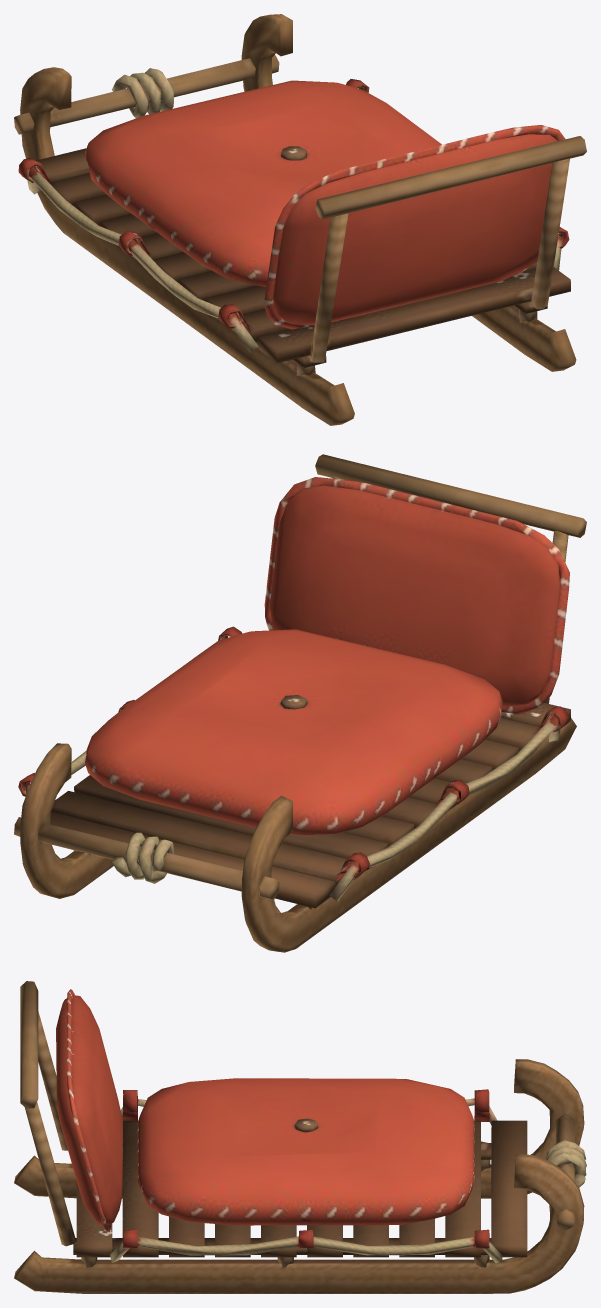
File: sled_small.glb
3 renders of one model, top to bottom at view 1: azimuth 30°, elevation 25°; view 2: azimuth 150°, elevation 25°; view 3: azimuth 270°, elevation 25°, orthographic. The views are drawn at different scales.
Parts seen in each view (by area): view 1: prop_sled_small_felt, prop_sled_small_wood; view 2: prop_sled_small_felt, prop_sled_small_wood; view 3: prop_sled_small_felt, prop_sled_small_wood.
Boxes of the visible parts, x1,y1,x2,y2 form: prop_sled_small_felt: (18,68,569,352); prop_sled_small_wood: (14,14,586,425); prop_sled_small_felt: (18,477,569,900); prop_sled_small_wood: (14,454,586,952); prop_sled_small_felt: (56,989,586,1263); prop_sled_small_wood: (14,981,584,1293).
Bounding box in the file's own units: 1.03 × 0.6848 × 1.68.
Materials: 2 (2 with a texture image).
